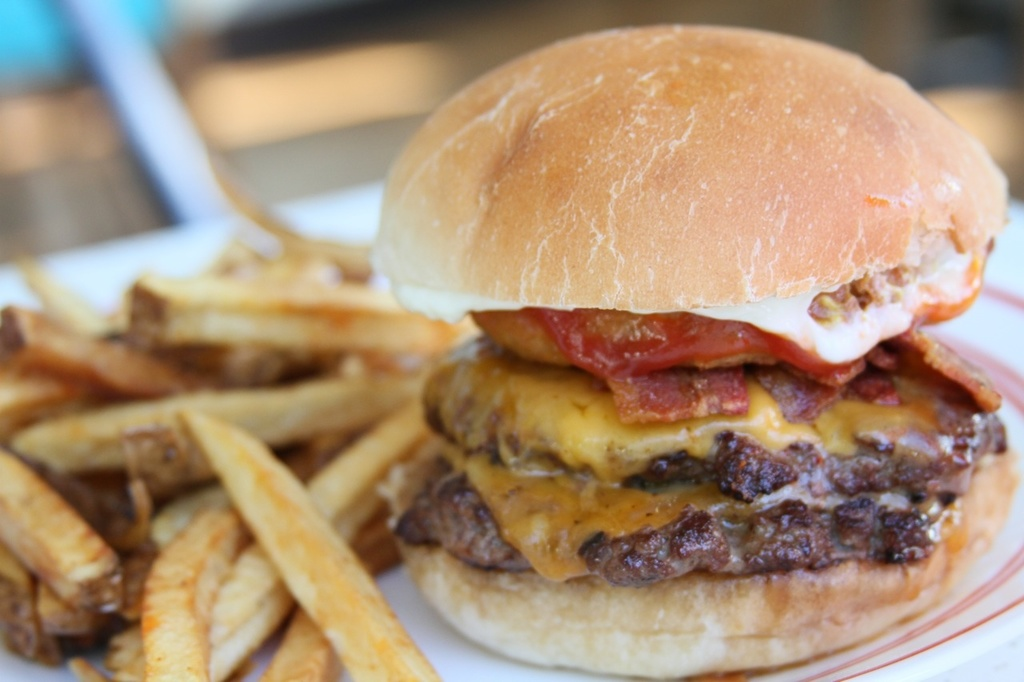French fries: (180, 398, 430, 679), (186, 409, 434, 681), (3, 382, 423, 482), (212, 143, 381, 277), (275, 502, 399, 681), (120, 283, 451, 344), (140, 496, 249, 681), (0, 442, 116, 603), (0, 299, 174, 397), (151, 451, 334, 542), (17, 248, 86, 336), (211, 242, 344, 283)
